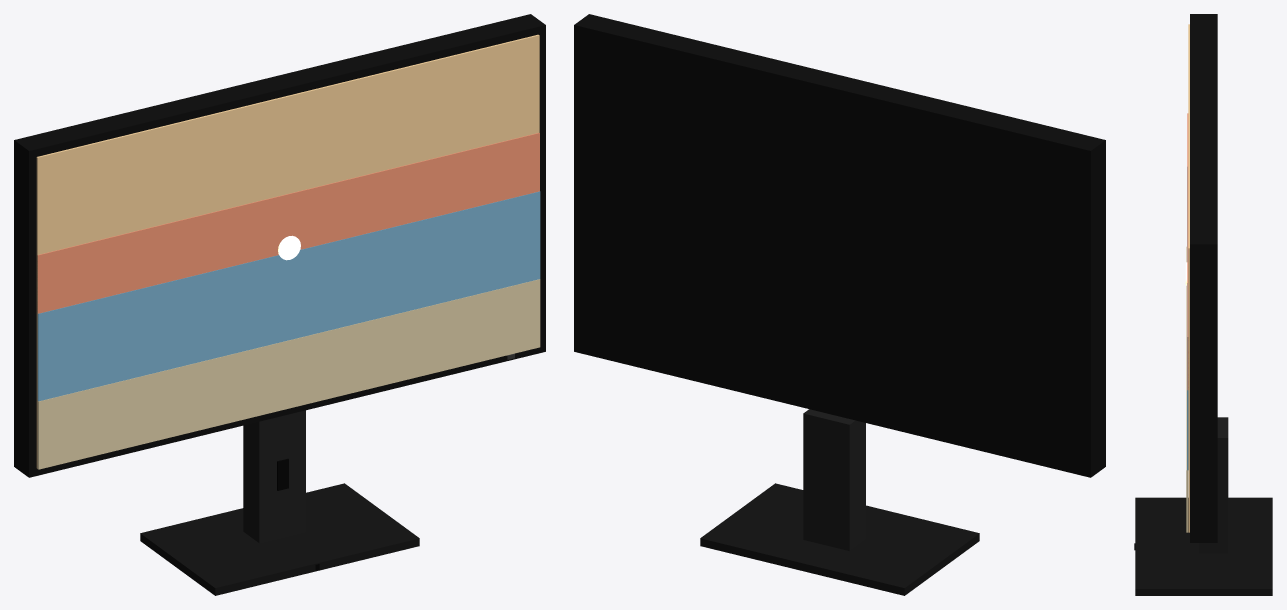
File: 21-monitor-beach-sunset.glb
3 views of the same model, side by side, from view 1: azimuth 30°, elevation 25°; view 2: azimuth 150°, elevation 25°; view 3: azimuth 270°, elevation 25° (orthographic). The views are drawn at different scales.
Bounding box in the file's own units: 0.556 × 0.474 × 0.1408.
